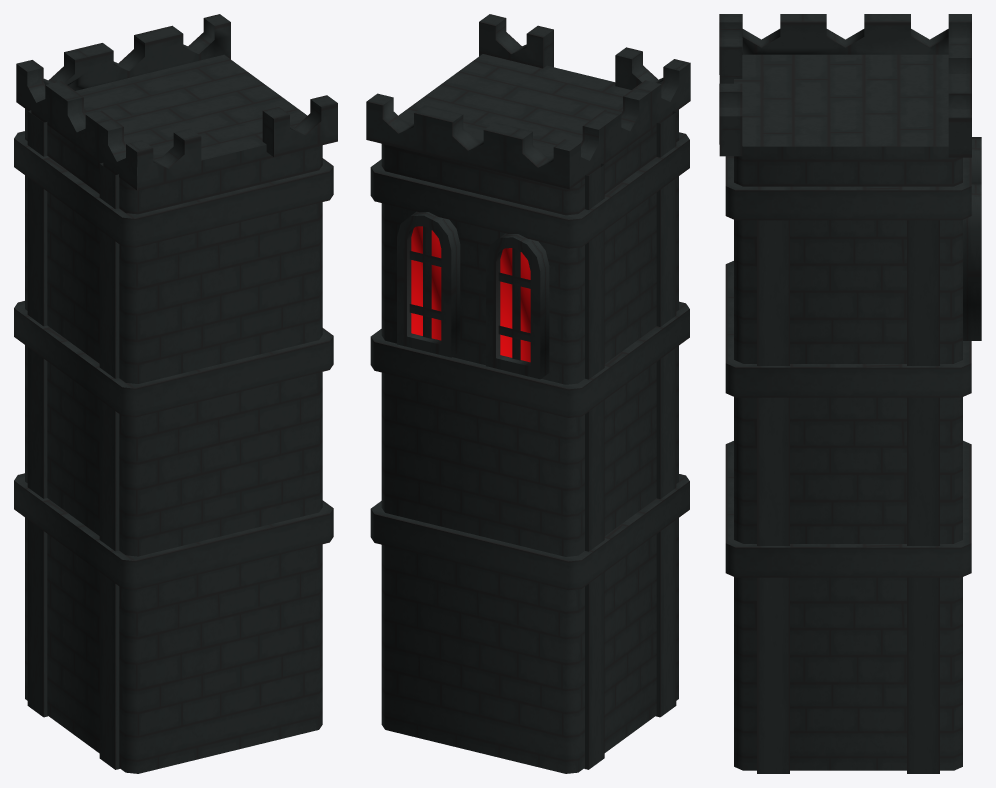
The model's file is Coast Spire U 2 Mirror.fbx.
3 renders of one model, left to right at view 1: azimuth 30°, elevation 25°; view 2: azimuth 150°, elevation 25°; view 3: azimuth 270°, elevation 25°, orthographic. The views are drawn at different scales.
Visible parts, largest first — view 1: Spire U2 Mirror; view 2: Spire U2 Mirror; view 3: Spire U2 Mirror.
Boxes of the visible parts, x1,y1,x2,y2 form: Spire U2 Mirror: (14,14,337,773); Spire U2 Mirror: (366,14,690,773); Spire U2 Mirror: (719,14,981,773).
Bounding box in the file's own units: 3351 × 9543 × 3451.
